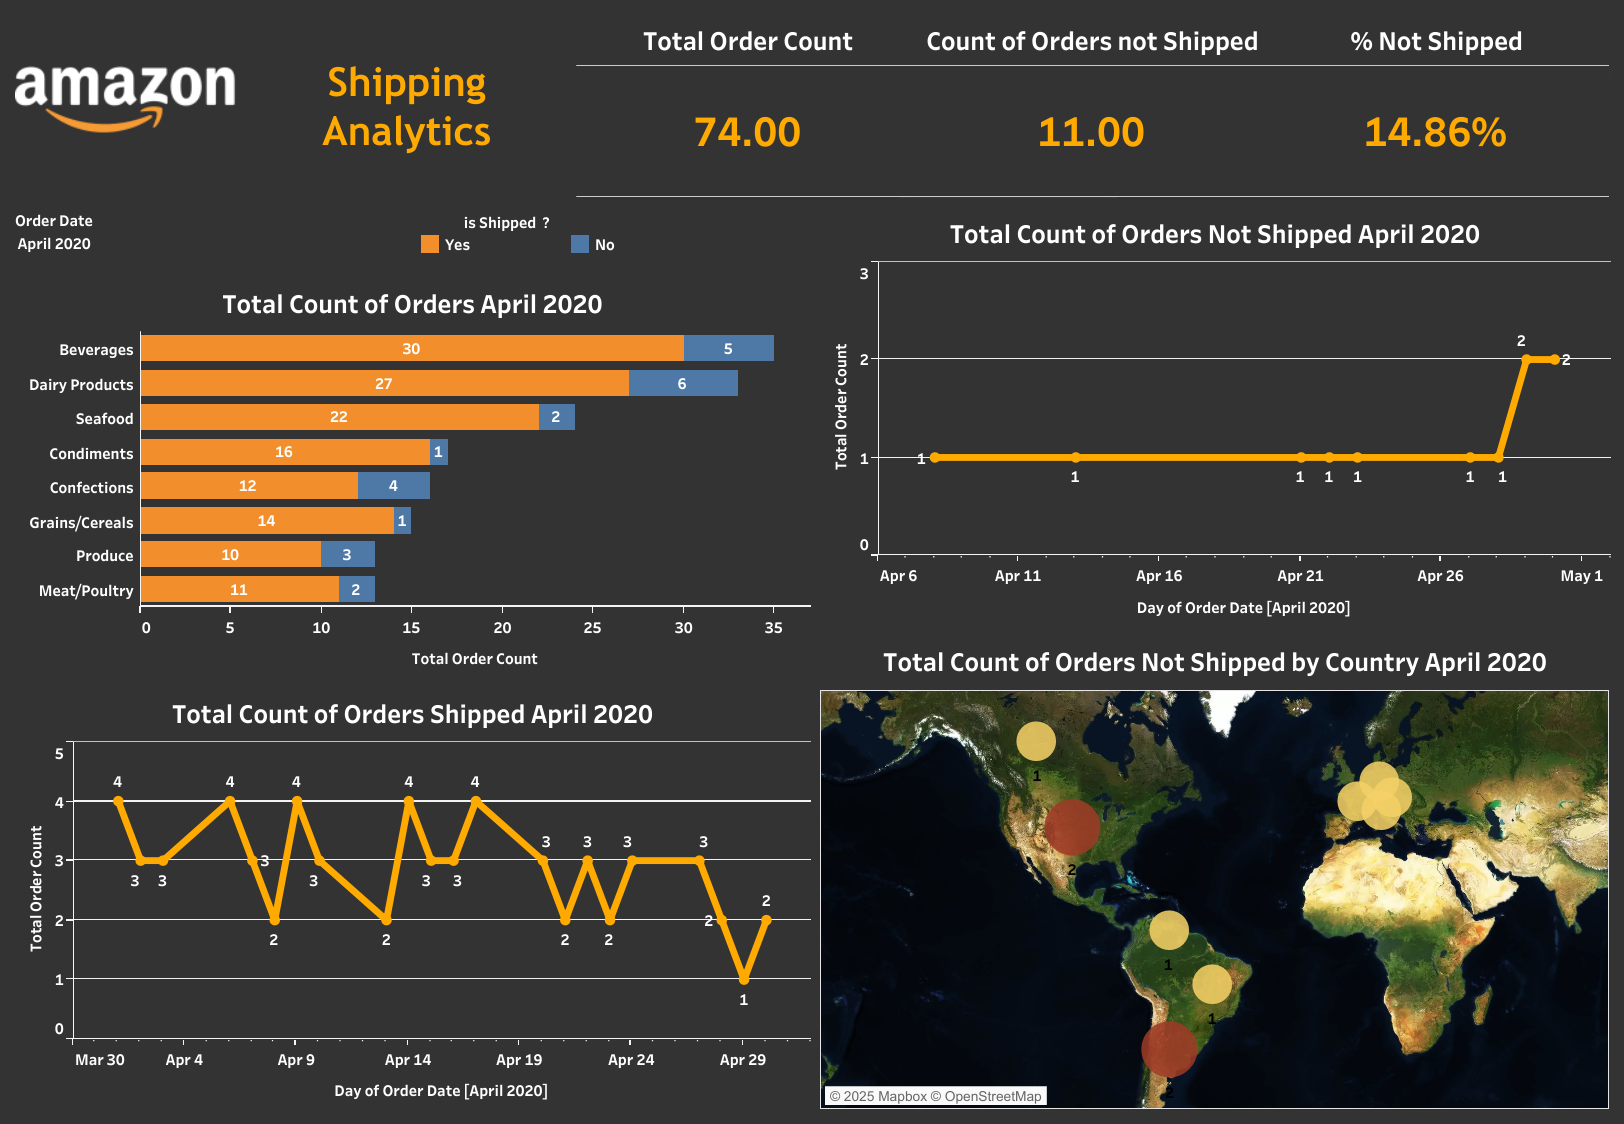

Layout of this report page (visuals, bound fields, positions):
{"tool":"tableau","page":{"name":"Dashboard 1","canvas":[1300,900],"ordinal":0},"visuals":[{"type":"image","param":"Image/amazon_PNG11.png","box":[8,8,186,154]},{"type":"text","box":[194,8,263,154]},{"type":"worksheet","title":"Headline Cards","mark":"Automatic","box":[457,8,835,154]},{"type":"filter","title":"Count of Orders","param":"[federated.15y85ei016dti91bm2ayw1dtszi3].[my:Calculation_1481895434133929984:ok]","box":[8,162,322,61]},{"type":"legend","title":"Count of Orders","param":"[federated.15y85ei016dti91bm2ayw1dtszi3].[none:Calculation_1481895434151337987:n","box":[330,162,322,61]},{"type":"worksheet","title":"Count of Orders for Month (Not Shipped)","mark":"Automatic","rows":["Calculation_1481895434149076994"],"cols":["Calculation_1481895434133929984"],"box":[651.7,162,640.3,329]},{"type":"worksheet","title":"Count of Orders","mark":"Automatic","rows":["CategoryName"],"cols":["Calculation_1481895434149076994"],"box":[8,223,643.7,323]},{"type":"worksheet","title":"Count of orders not shipped by country","mark":"Automatic","box":[651.7,491,640.3,401]},{"type":"worksheet","title":"Count of Orders for Month","mark":"Automatic","rows":["Calculation_1481895434149076994"],"cols":["Calculation_1481895434133929984"],"box":[8,546,643.7,346]}]}

Visuals, with their boxes in screenshot pixels (x1, y1, x2, y2), scaled from the page's 1300x900 canvas onto the 1624x1124 screenshot:
image: [10, 10, 242, 202]
text: [242, 10, 571, 202]
"Headline Cards" worksheet: [571, 10, 1614, 202]
"Count of Orders" filter: [10, 202, 412, 279]
"Count of Orders" legend: [412, 202, 814, 279]
"Count of Orders for Month (Not Shipped)" worksheet: [814, 202, 1614, 613]
"Count of Orders" worksheet: [10, 279, 814, 682]
"Count of orders not shipped by country" worksheet: [814, 613, 1614, 1114]
"Count of Orders for Month" worksheet: [10, 682, 814, 1114]
